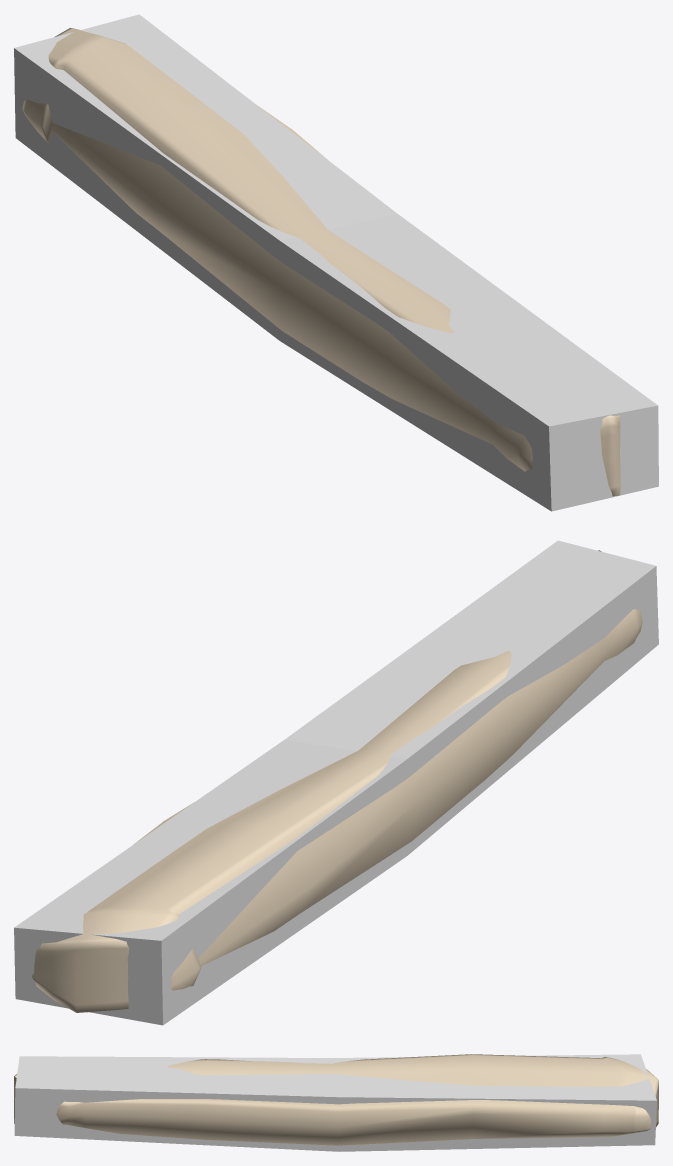
The model's file is wood_C.fbx.
3 renders of one model, top to bottom at view 1: azimuth 30°, elevation 25°; view 2: azimuth 150°, elevation 25°; view 3: azimuth 270°, elevation 25°, orthographic. The views are drawn at different scales.
Parts seen in each view (by area): view 1: c_wood_C, wood_C; view 2: c_wood_C, wood_C; view 3: wood_C, c_wood_C.
Boxes of the visible parts, x1,y1,x2,y2 form: c_wood_C: (14,14,658,511); wood_C: (22,28,620,496); c_wood_C: (14,540,658,1025); wood_C: (32,550,642,1012); wood_C: (14,1054,658,1145); c_wood_C: (14,1054,656,1151).
Bounding box in the file's own units: 8.5 × 5.73 × 49.89.
